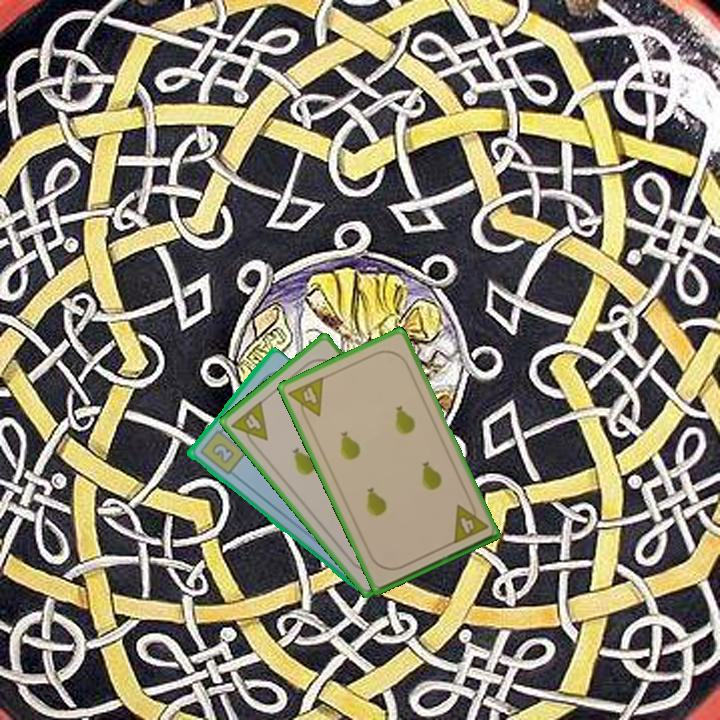2b: (196, 423, 248, 477)
4p: (228, 397, 271, 452), (285, 373, 327, 424), (449, 497, 491, 547)
